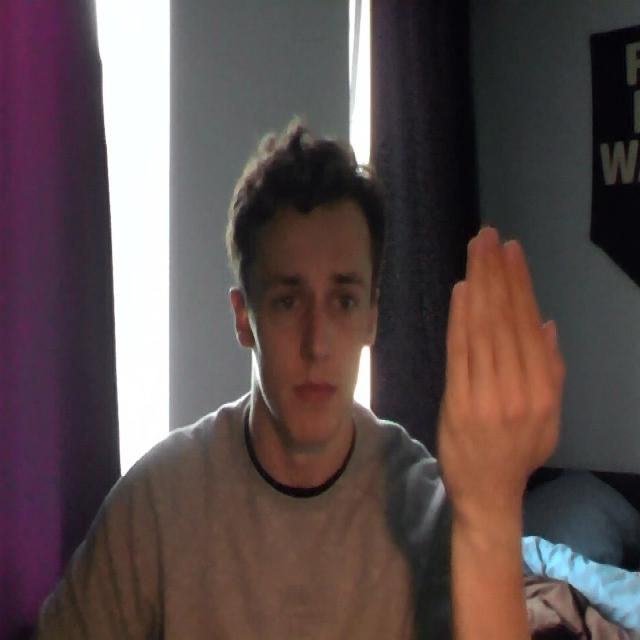forward: (428, 223, 574, 508)
